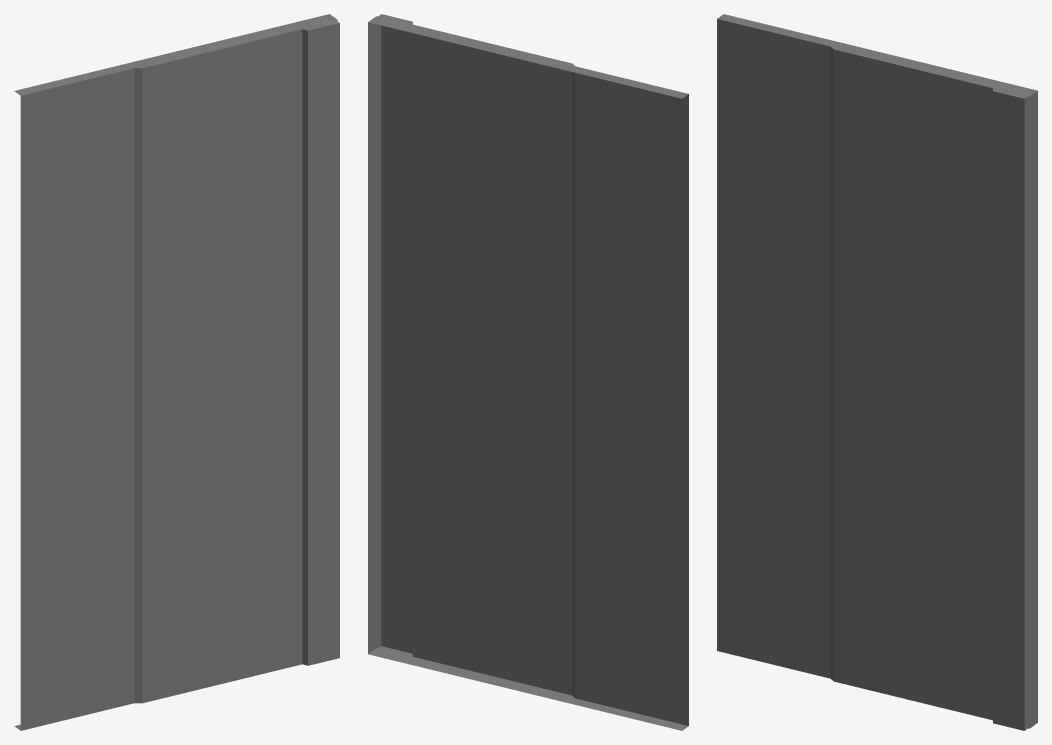
The model's file is q-scifi-mod-door-simple.glb.
3 views of the same model, side by side, from view 1: azimuth 30°, elevation 25°; view 2: azimuth 150°, elevation 25°; view 3: azimuth 330°, elevation 25° (orthographic).
Parts seen in each view (by area): view 1: Door_Simple; view 2: Door_Simple; view 3: Door_Simple.
Part boxes in pixels (x1,y1,x2,y2): Door_Simple: (14, 14, 339, 730); Door_Simple: (368, 14, 688, 730); Door_Simple: (717, 14, 1037, 730).
Size of the model in its own units: 2.11 by 4.05 by 0.1363.
Materials: 3 (3 with a texture image).
